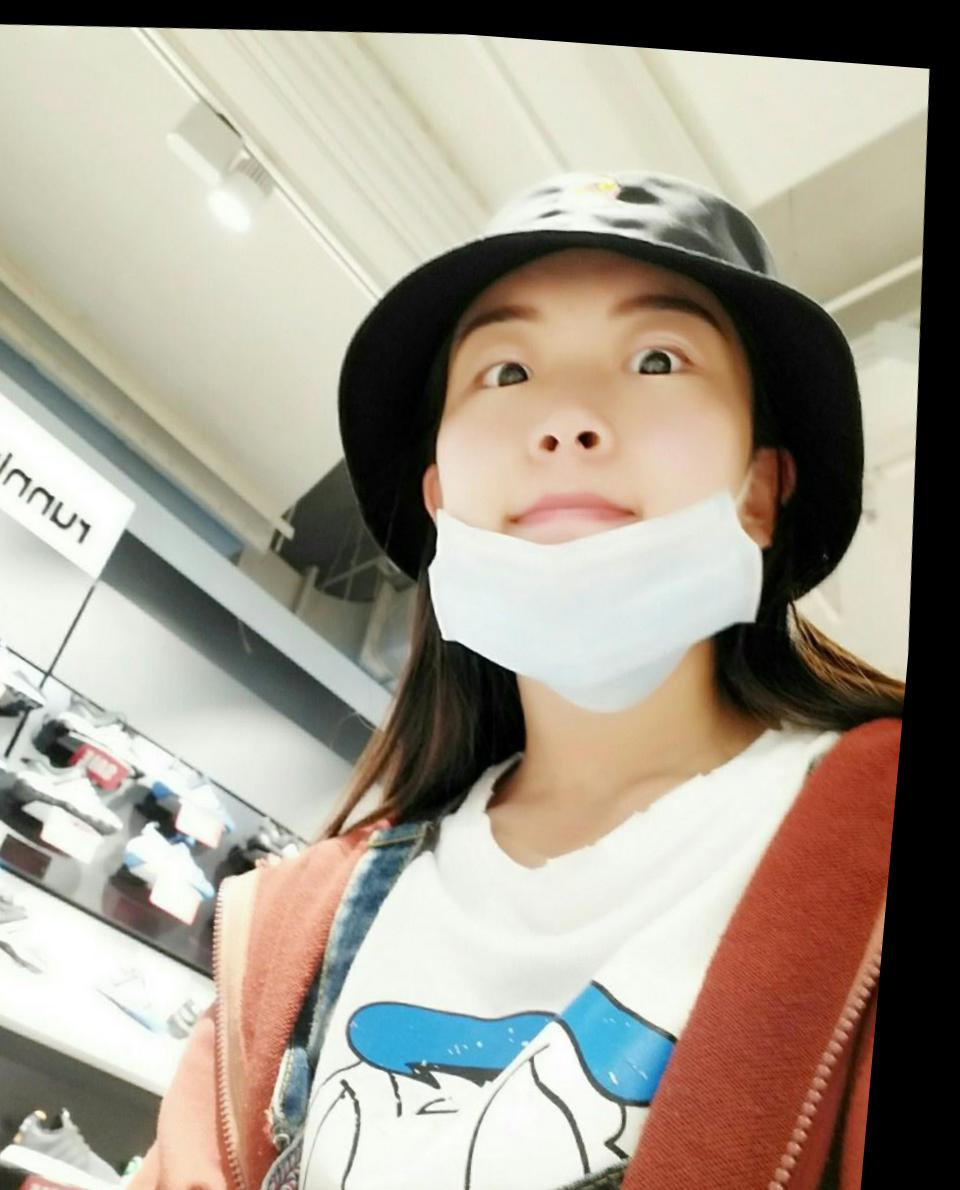WRONG: (420, 253, 776, 658)
